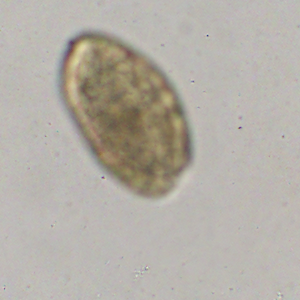Fasciola_hepatica_egg: (60, 28, 194, 198)
